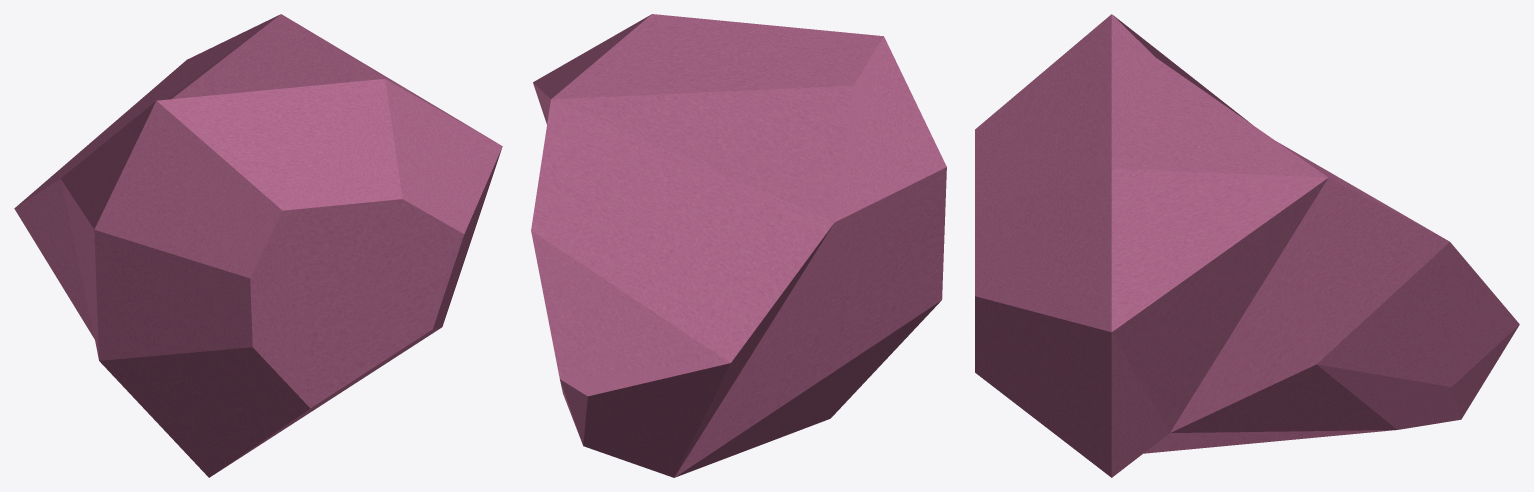
Rendered from pink_rock_2.FBX.
3 renders of one model, left to right at view 1: azimuth 30°, elevation 25°; view 2: azimuth 150°, elevation 25°; view 3: azimuth 270°, elevation 25°, orthographic. The views are drawn at different scales.
Visible parts, largest first — view 1: rock_3.003; view 2: rock_3.003; view 3: rock_3.003.
Boxes of the visible parts, x1=… form: rock_3.003: x1=14, y1=14, x2=502, y2=477; rock_3.003: x1=531, y1=14, x2=946, y2=477; rock_3.003: x1=975, y1=14, x2=1519, y2=477.
Bounding box in the file's own units: 312 × 285 × 339.
